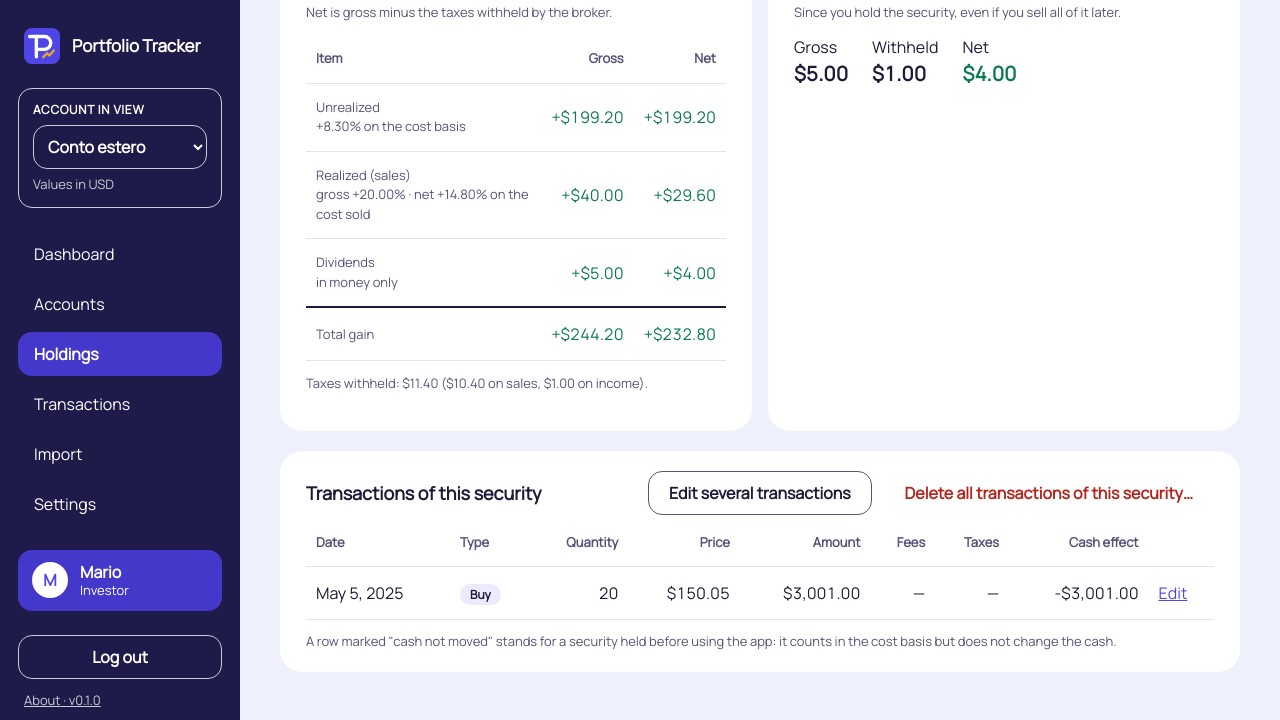
Test: holding detail (mockup 03 without the chart, D-146) › never offers the previous security's count while the next one's is on its way
(page scrolled)
Click the button "Delete all transactions of this security…".
click(1049, 493)  # box left=884, top=471, right=1214, bottom=515
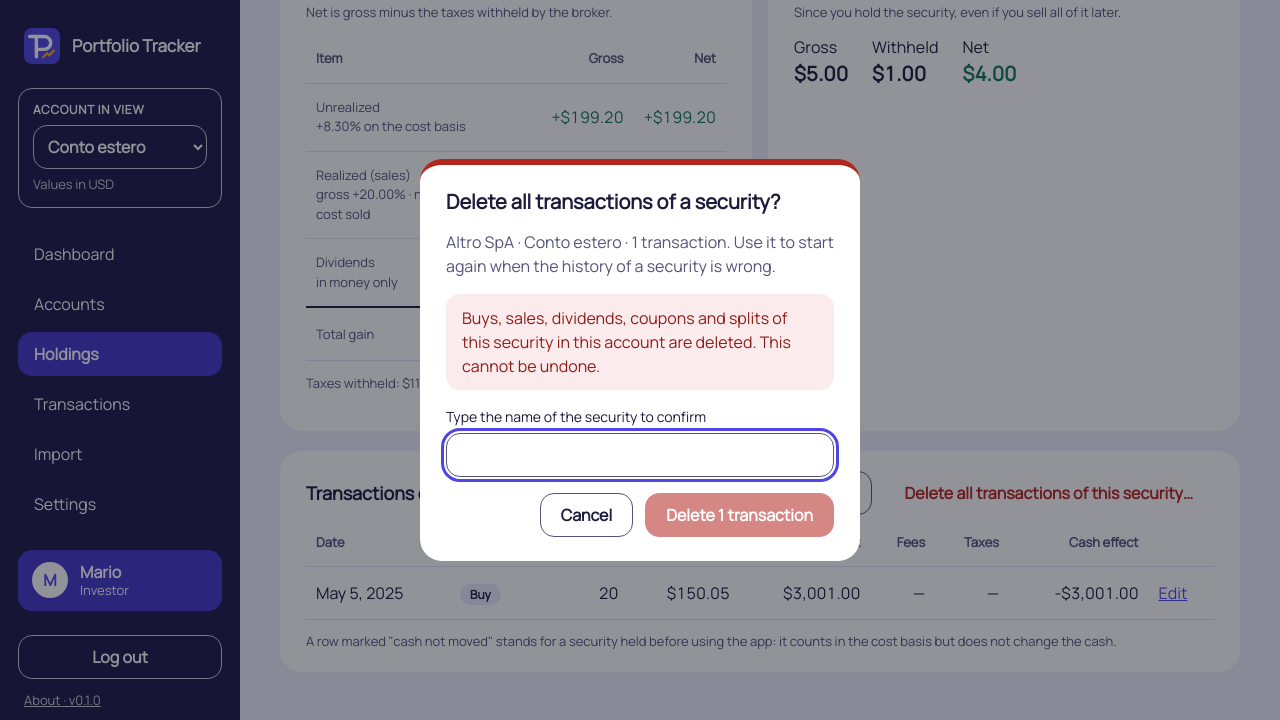
expect the dialog shows "Altro SpA · Conto estero · 1 transaction.": met, box left=446, top=231, right=834, bottom=277
